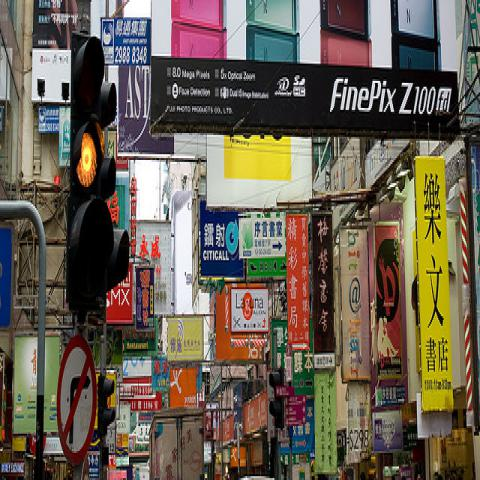truck: (148, 405, 204, 478)
